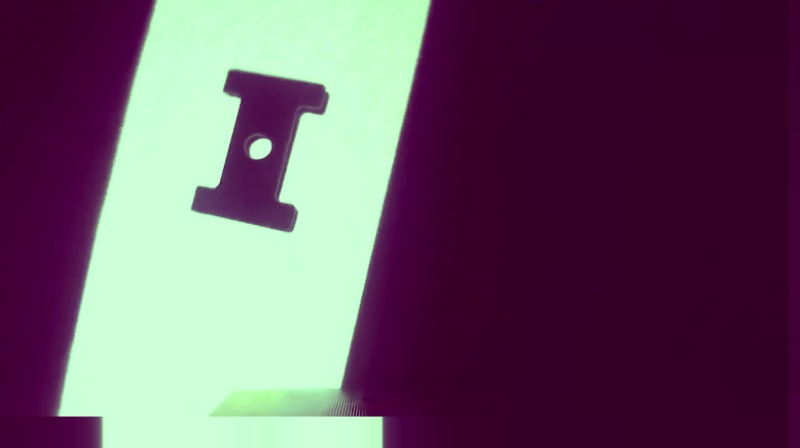O002: (186, 66, 331, 236)
